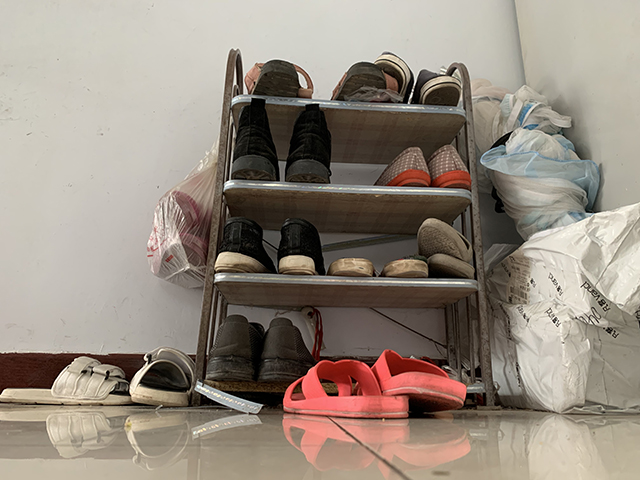slippers: (283, 358, 409, 418), (1, 355, 131, 404), (375, 344, 465, 405), (128, 345, 193, 404)
